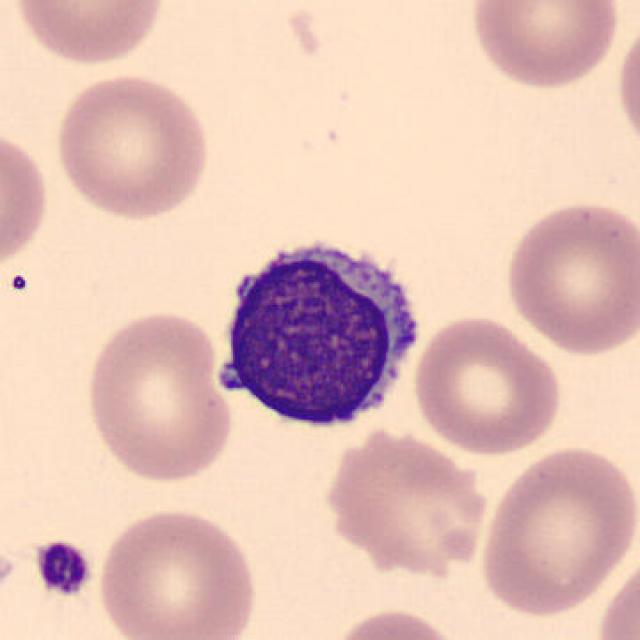Lymphocyte: (203, 224, 432, 441)
Platelets: (30, 538, 94, 599)
RBC: (473, 440, 636, 620), (313, 423, 496, 580), (80, 305, 236, 485), (50, 69, 215, 222), (92, 504, 262, 640), (409, 311, 565, 458), (500, 196, 638, 358), (464, 0, 624, 93), (9, 0, 169, 69), (0, 121, 52, 276), (319, 604, 469, 640), (592, 546, 640, 640), (611, 10, 640, 160)
